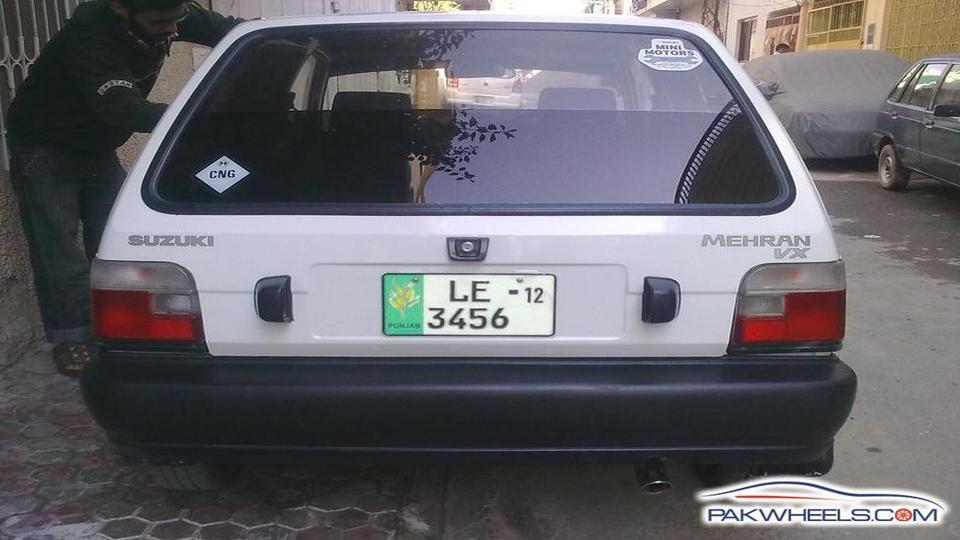NumberPlate: (371, 258, 576, 356)
